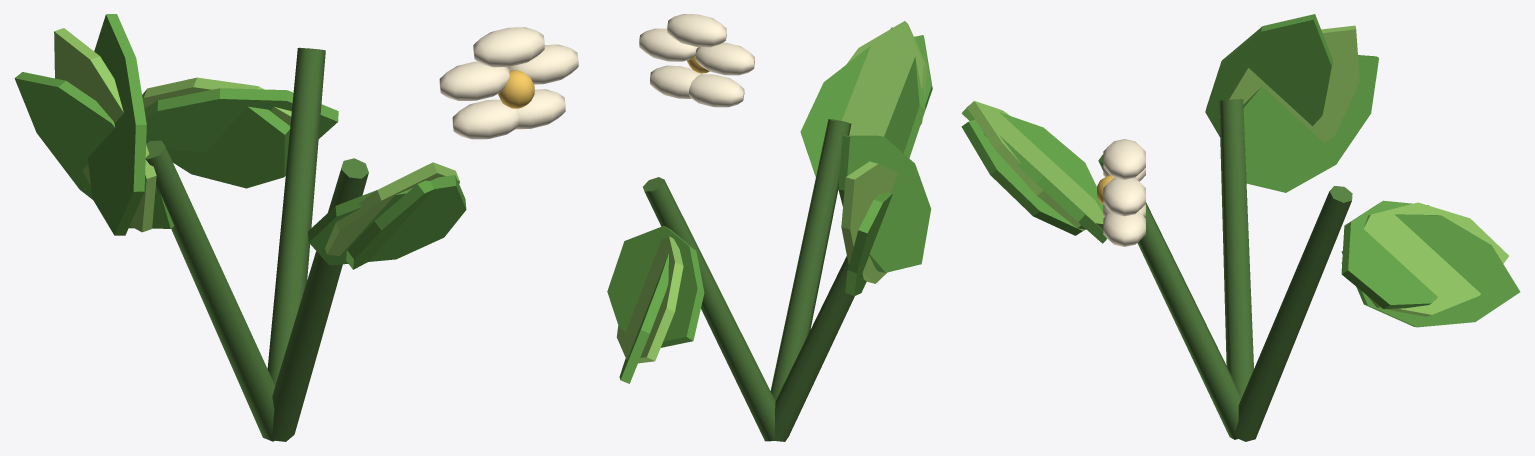
The model's file is strawberry-growing.glb.
3 renders of one model, left to right at view 1: azimuth 30°, elevation 25°; view 2: azimuth 150°, elevation 25°; view 3: azimuth 270°, elevation 25°, orthographic. The views are drawn at different scales.
Parts seen in each view (by area): view 1: strawberry_growing_leaf, strawberry_growing_stem, strawberry_growing_flower, strawberry_growing_leafLight, strawberry_growing_flowerCore; view 2: strawberry_growing_leaf, strawberry_growing_stem, strawberry_growing_leafLight, strawberry_growing_flower; view 3: strawberry_growing_leaf, strawberry_growing_stem, strawberry_growing_leafLight, strawberry_growing_flower.
Boxes of the visible parts, x1,y1,x2,y2 form: strawberry_growing_leaf: (14,14,466,269); strawberry_growing_stem: (145,47,368,441); strawberry_growing_flower: (439,27,578,139); strawberry_growing_leafLight: (54,28,459,255); strawberry_growing_flowerCore: (498,70,534,108); strawberry_growing_leaf: (607,27,932,383); strawberry_growing_stem: (643,119,854,441); strawberry_growing_leafLight: (616,21,927,363); strawberry_growing_flower: (639,14,754,107); strawberry_growing_leaf: (961,14,1520,327); strawberry_growing_stem: (1098,99,1352,441); strawberry_growing_leafLight: (967,25,1508,316); strawberry_growing_flower: (1103,139,1145,246).
Size of the model in its own units: 0.2826 by 0.2738 by 0.3772.
